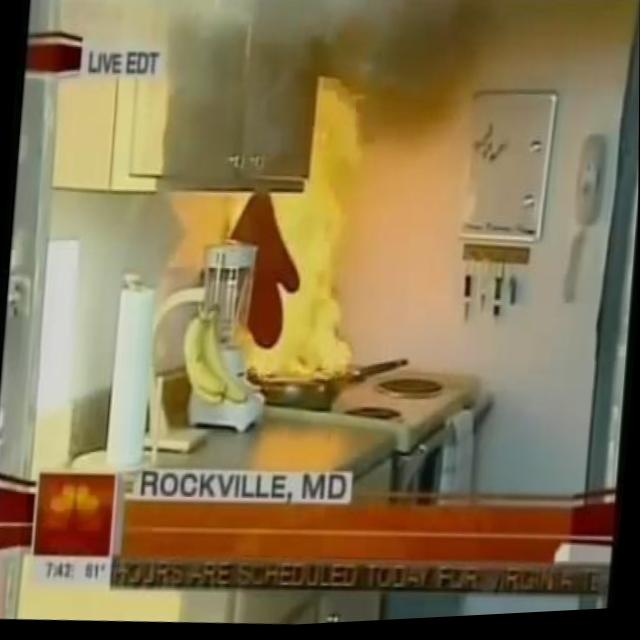fire: (203, 72, 378, 398)
